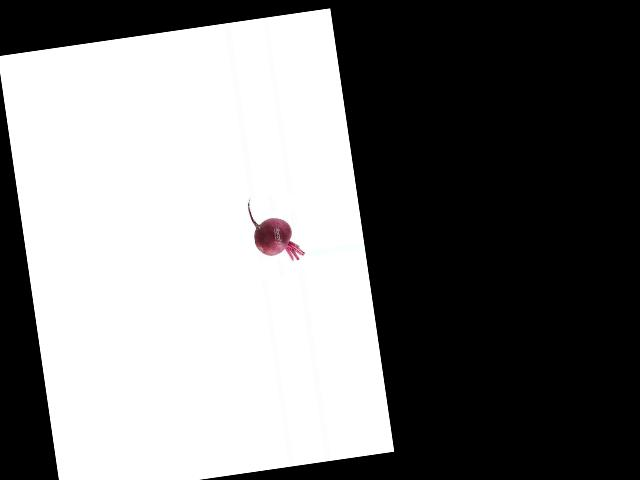beet: (246, 191, 305, 265)
